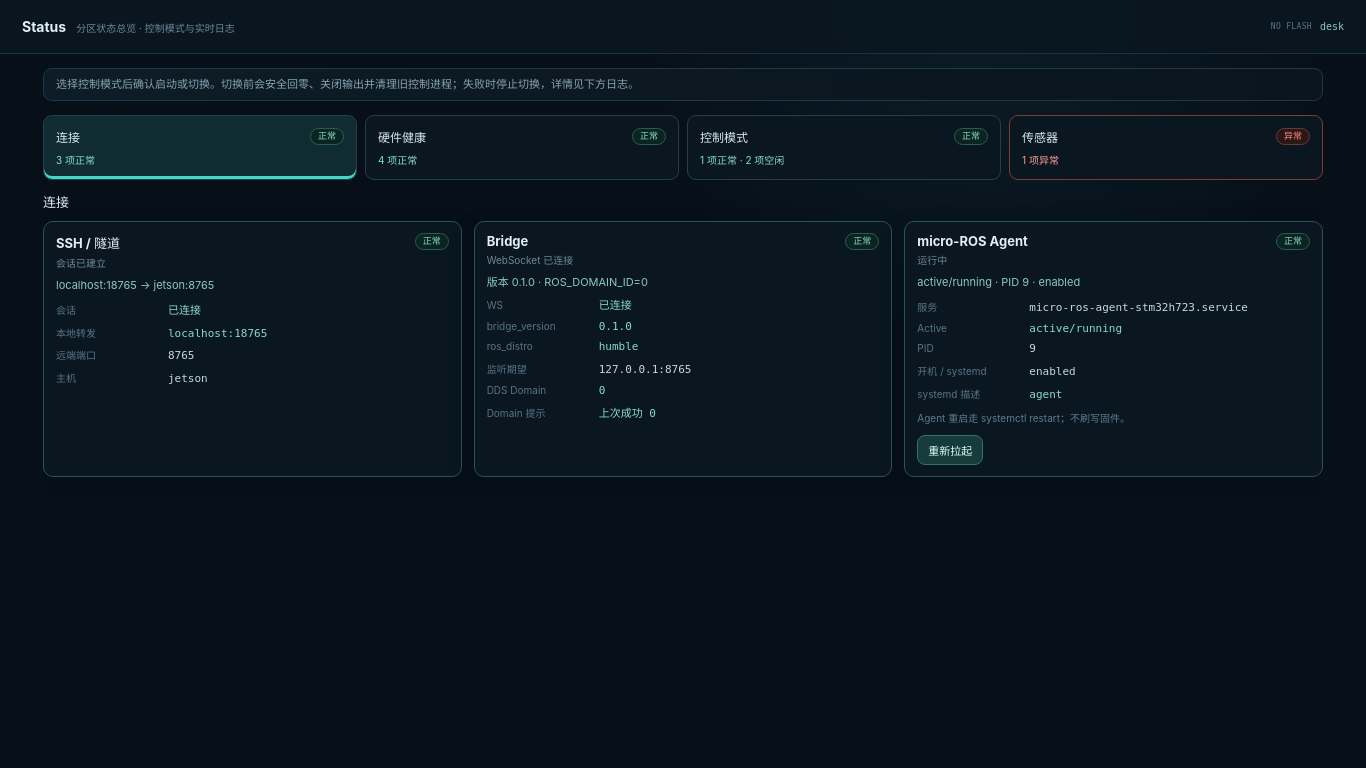
Test case: StatusPage › shows only the active mode detail and marks the strip segment pressed
What coordinates should you click on to do the following:
click the tab "控制模式"
I would click on:
 (724, 138)
Its box is [687,115,1001,180].
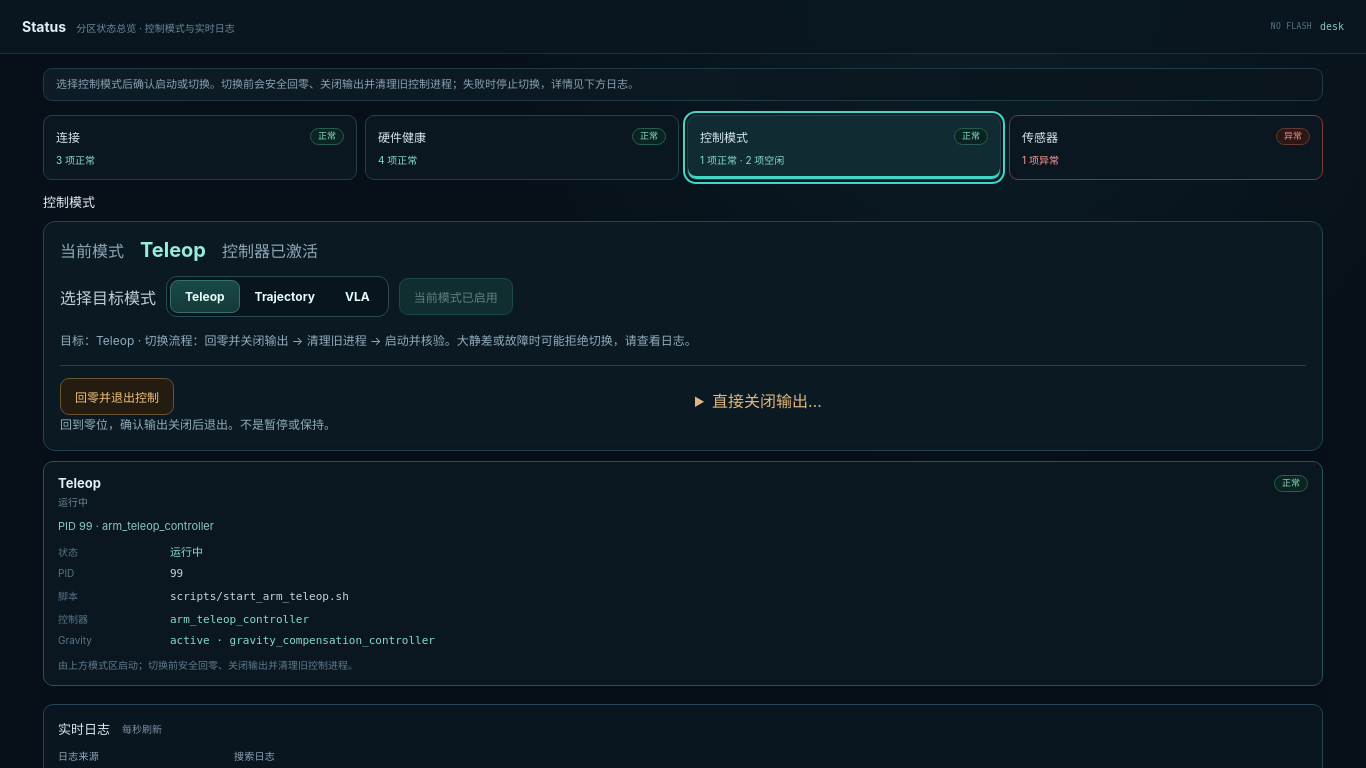
Check: the element labelled "Teleop" is shown, box [43,461,1323,686]
Check: the text "arm_teleop_controller" is shown, box [170,613,309,626]
Check: the text "Gravity" is shown, box [58,634,92,646]
